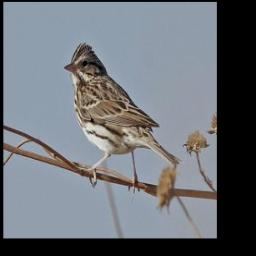Sparrow: (63, 42, 182, 197)
